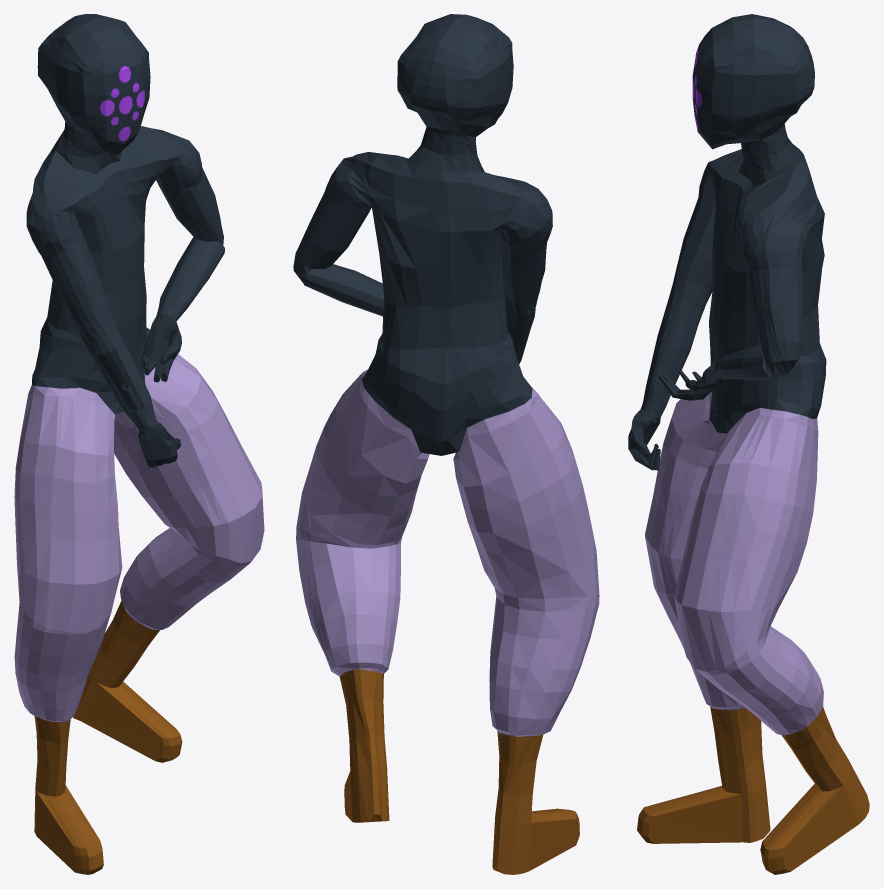
File: Oracle_WR_000022.obj
The picture shows the model from 3 angles, left to right: view 1: azimuth 30°, elevation 25°; view 2: azimuth 150°, elevation 25°; view 3: azimuth 270°, elevation 25°; orthographic projection. The views are drawn at different scales.
Visible parts, largest first — view 1: Cube; view 2: Cube; view 3: Cube.
Part boxes in pixels (x1,y1,x2,y2): Cube: (14,14,264,874); Cube: (293,14,599,874); Cube: (628,14,869,874).
Size of the model in its own units: 1.31 by 3.88 by 1.
